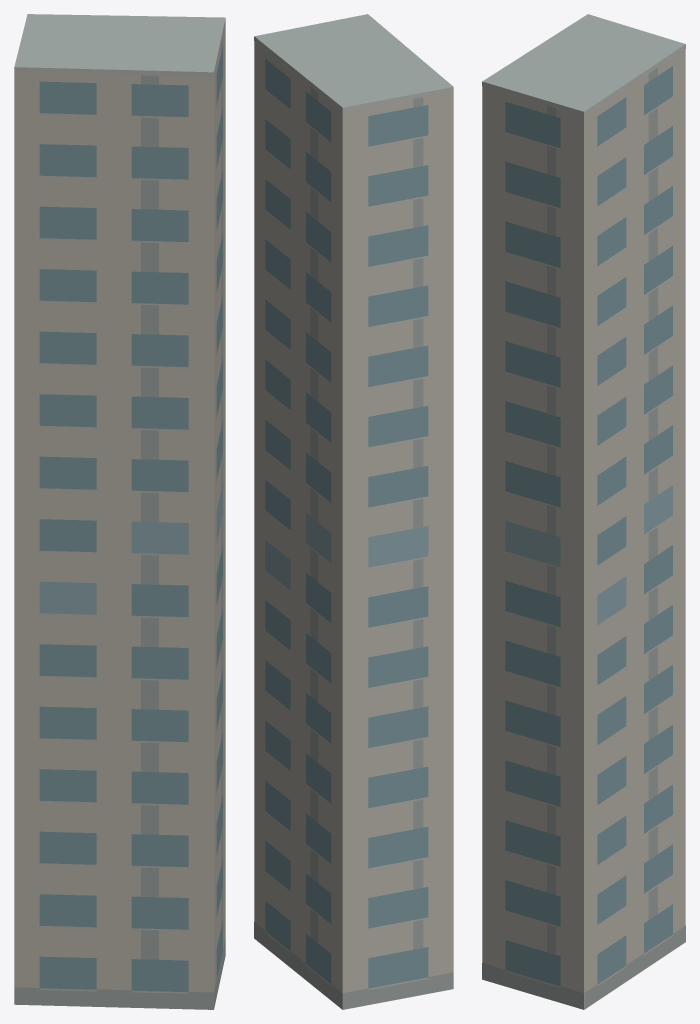
Rendered from survey-upis-32723583.glb.
3 views of the same model, side by side, from view 1: azimuth 30°, elevation 25°; view 2: azimuth 150°, elevation 25°; view 3: azimuth 270°, elevation 25° (orthographic). The views are drawn at different scales.
Visible parts, largest first — view 1: survey-upis-32723583.tmp; view 2: survey-upis-32723583.tmp; view 3: survey-upis-32723583.tmp.
Part boxes in pixels (x1=…): survey-upis-32723583.tmp: x1=14, y1=14, x2=225, y2=1009; survey-upis-32723583.tmp: x1=254, y1=14, x2=453, y2=1009; survey-upis-32723583.tmp: x1=482, y1=14, x2=685, y2=1009.
Bounding box in the file's own units: 10.7 × 45.75 × 9.41.
